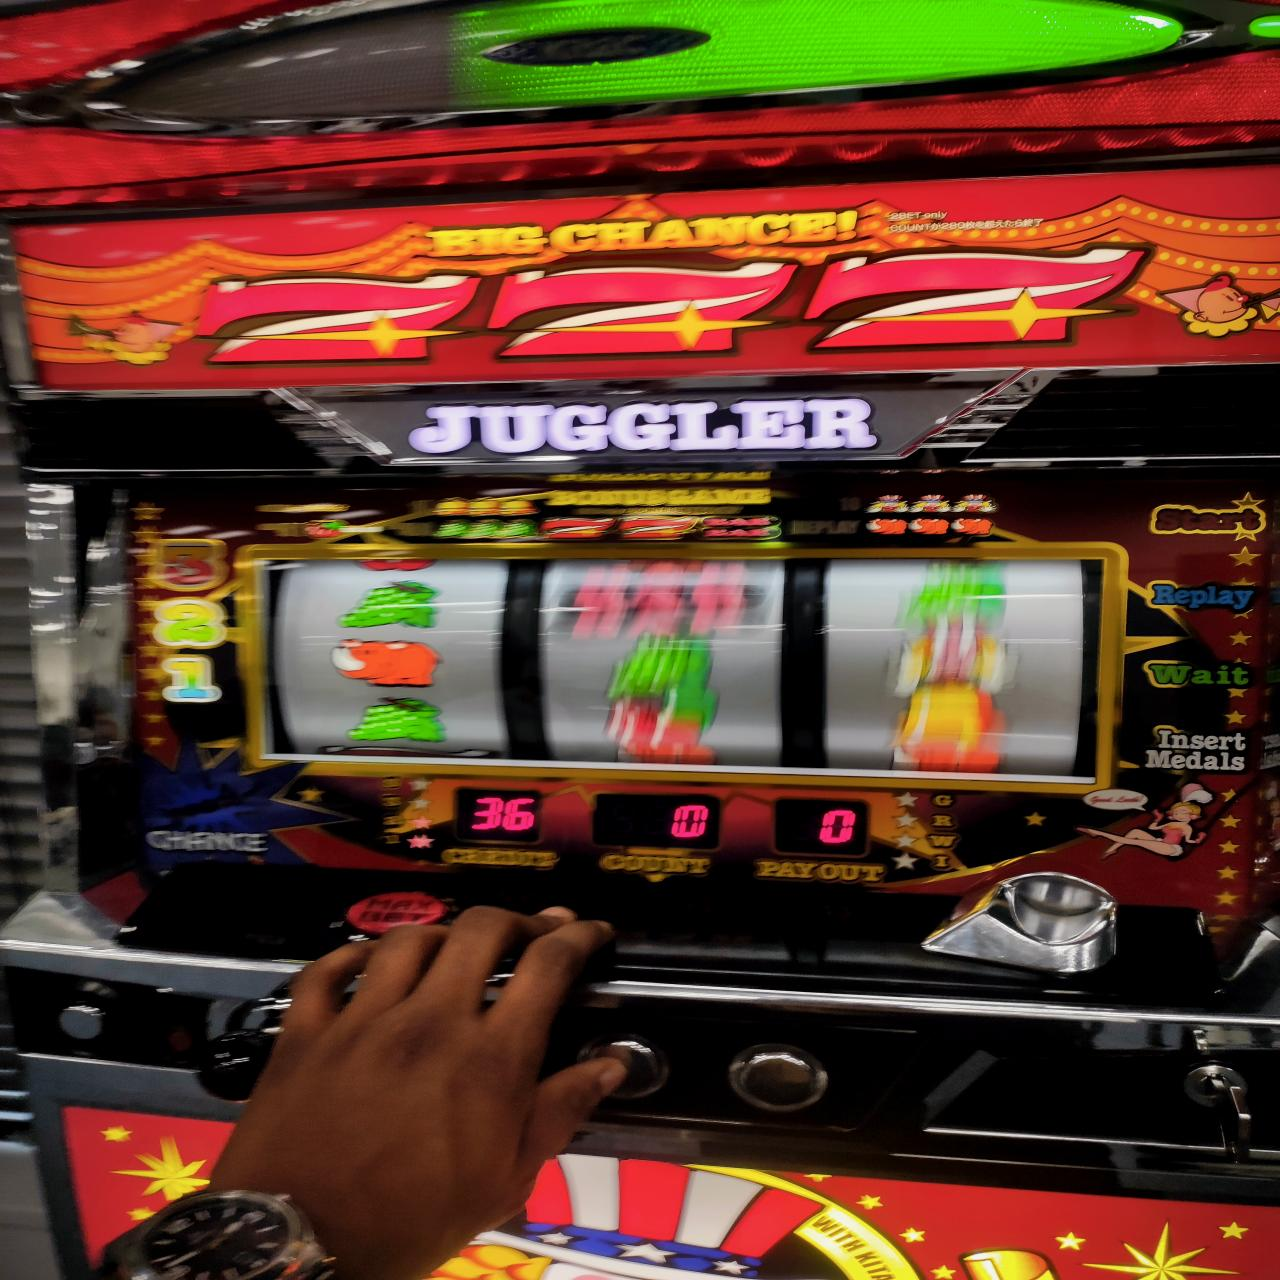rhino: (258, 549, 1108, 792)
